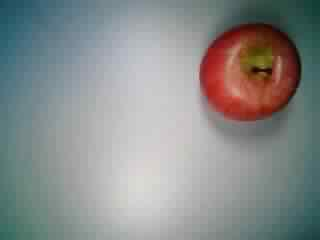apple: (197, 22, 301, 123)
